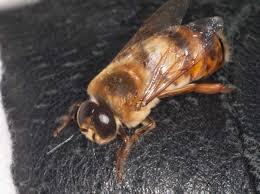worker-bee: (54, 0, 232, 180)
